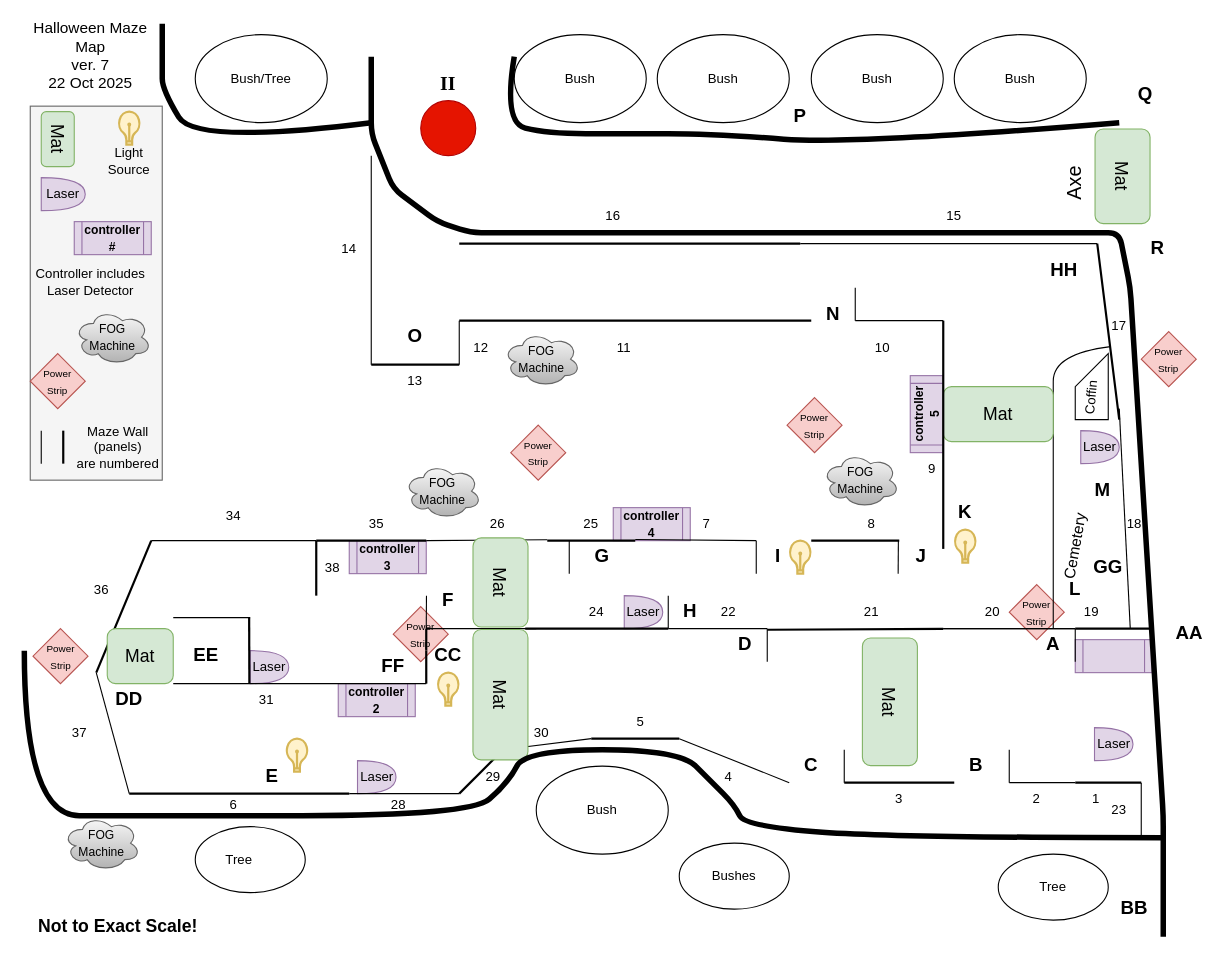
The diagram is 1230 pixels wide and 959 high, and some of its shapes have lost their labels. The shapes that lost their labels are listed below. From the top down, each one's centre as x and y in pixels, then its label:
the point at 448,128: CANDY
the point at 1113,656: controller 1
